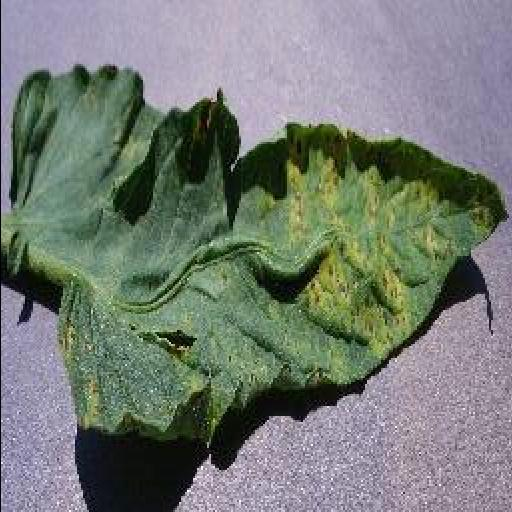disease_tomato: (0, 60, 510, 444)
